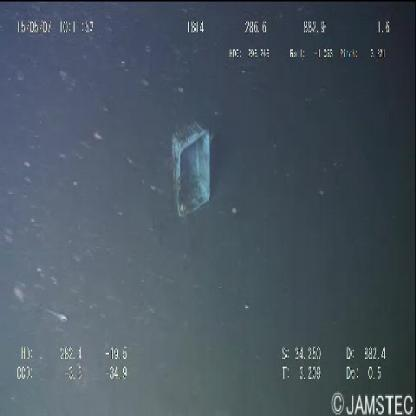Rác: (173, 122, 212, 219)
